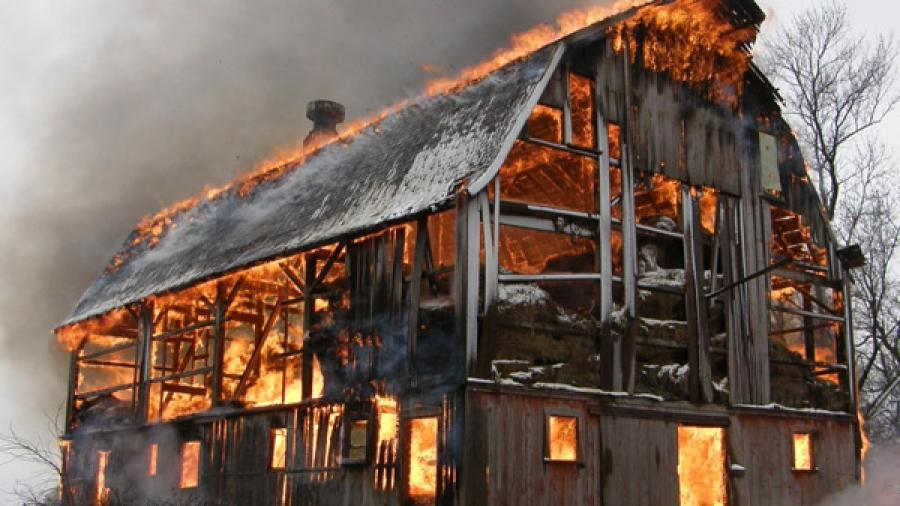fire: (609, 2, 749, 105), (223, 253, 307, 416), (148, 280, 215, 422), (486, 1, 607, 75), (56, 308, 140, 407), (503, 142, 598, 212), (134, 178, 228, 242), (229, 134, 323, 195), (676, 424, 729, 506), (327, 103, 389, 149), (418, 62, 485, 102), (793, 340, 843, 384), (411, 419, 439, 495), (374, 395, 396, 490), (568, 75, 595, 141), (546, 414, 581, 462), (799, 221, 830, 266), (649, 175, 681, 214), (854, 381, 865, 484), (697, 188, 723, 231), (534, 104, 562, 138), (181, 442, 201, 488), (794, 431, 815, 471), (309, 358, 329, 399), (274, 429, 289, 469), (766, 282, 799, 300), (606, 123, 621, 160), (98, 453, 104, 506)
smoke: (30, 0, 309, 175), (0, 179, 106, 310), (309, 0, 458, 93), (0, 310, 65, 421), (110, 415, 181, 504), (349, 311, 423, 387), (287, 143, 355, 206), (161, 203, 225, 266), (227, 183, 285, 239), (719, 98, 753, 152), (72, 418, 100, 482)
